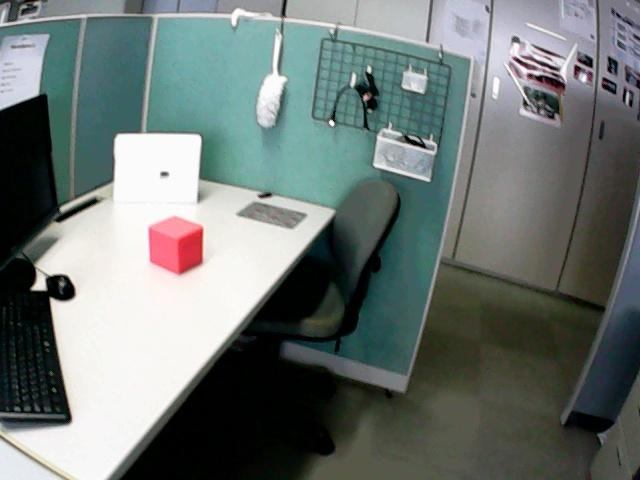red_block: (149, 216, 202, 273)
